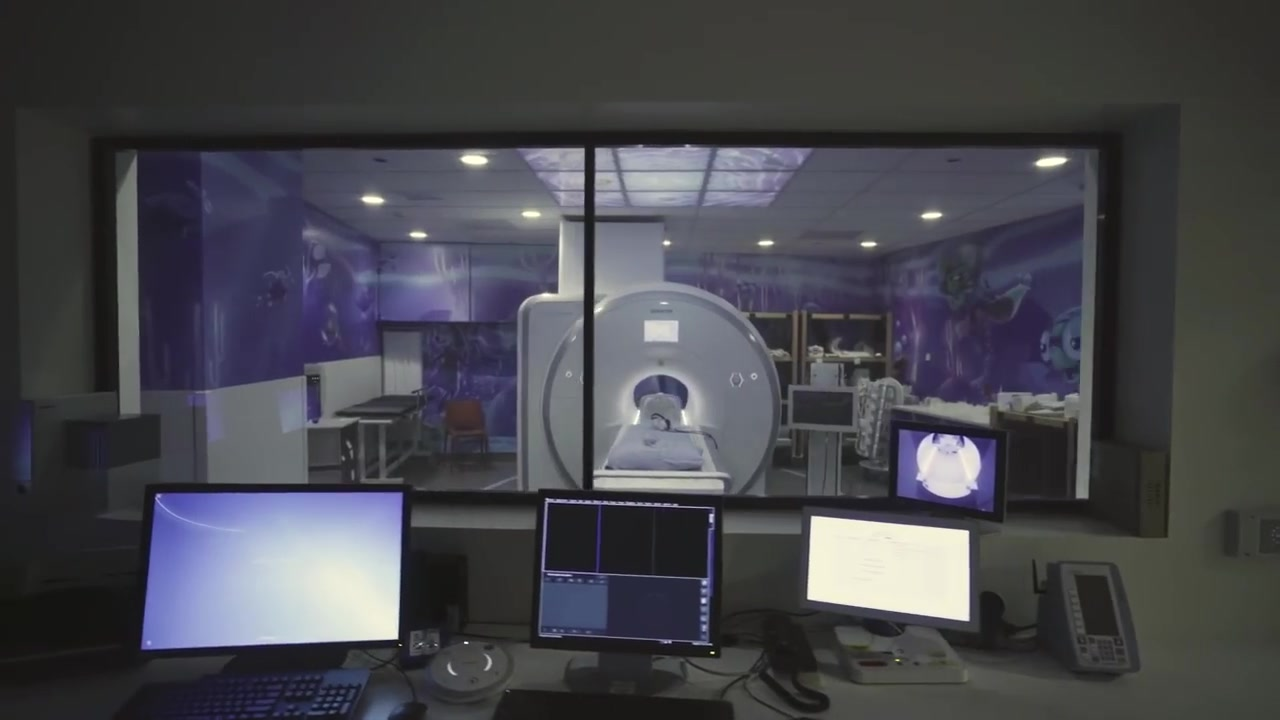bedside_monitor: (885, 419, 1008, 520), (783, 384, 858, 434)
chair: (439, 398, 492, 470)
computer: (129, 481, 415, 663), (529, 486, 724, 660), (795, 505, 978, 636)
exam_table: (335, 394, 427, 484)
keyboard: (108, 666, 373, 720), (489, 686, 733, 720)
mouse: (385, 699, 428, 720)
telephone: (757, 614, 830, 712)
xray_bed: (593, 393, 732, 490)
xray_machine: (518, 283, 783, 494)
